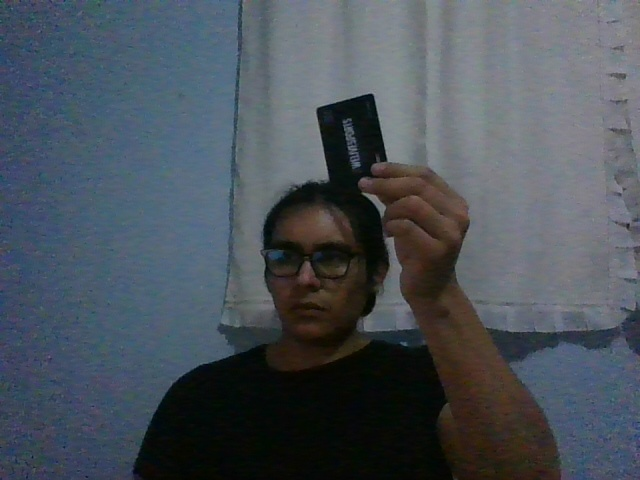tarjeta: (316, 92, 388, 189)
